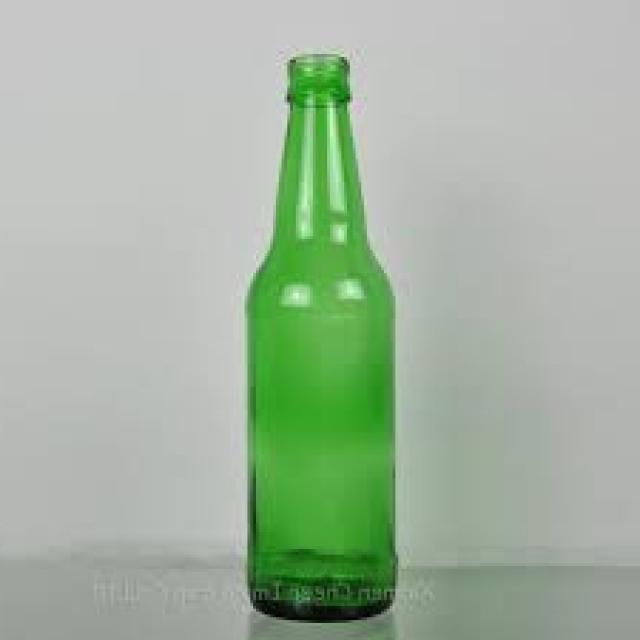glass: (243, 47, 401, 626)
